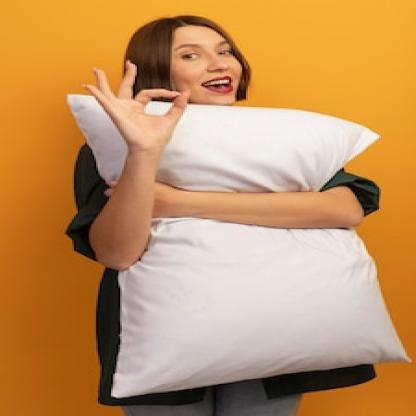ok: (80, 57, 193, 148)
